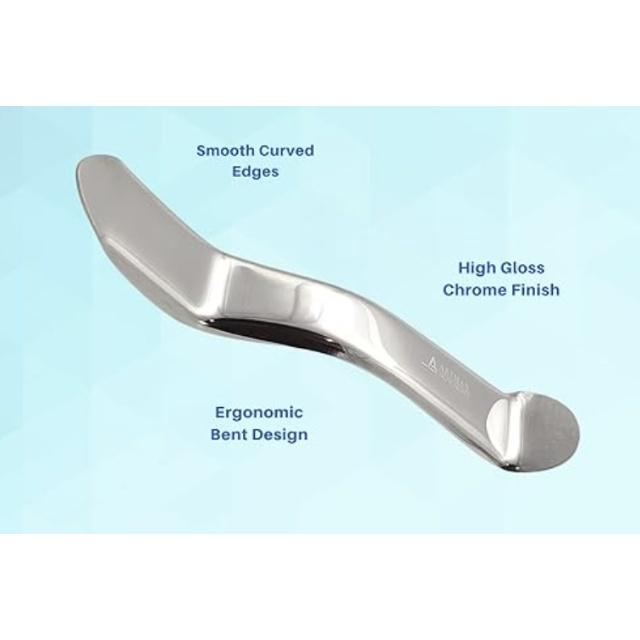separador: (74, 155, 582, 476)
